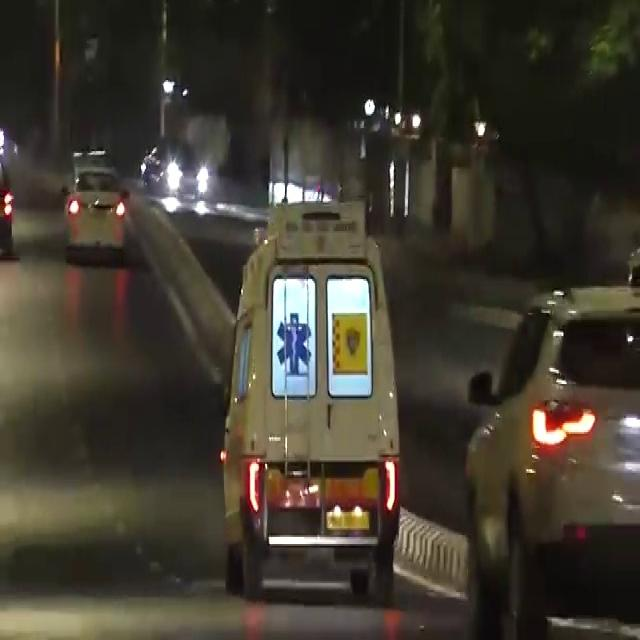ambulance: (210, 200, 422, 588)
